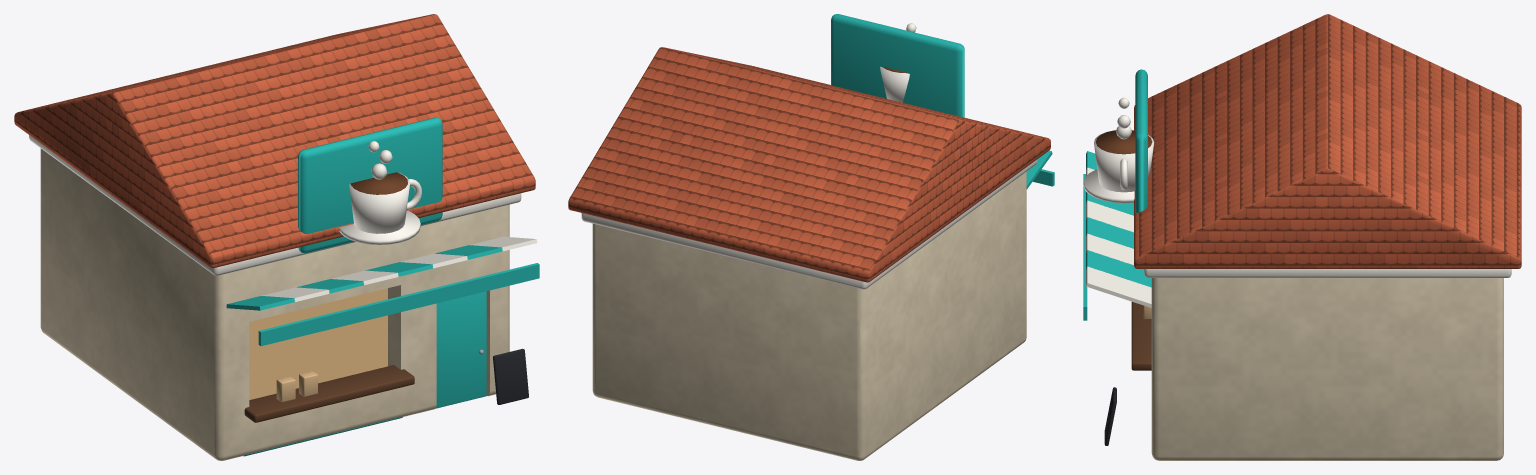
The model's file is restaurant_coffee.gltf.
The picture shows the model from 3 angles, left to right: view 1: azimuth 30°, elevation 25°; view 2: azimuth 150°, elevation 25°; view 3: azimuth 270°, elevation 25°; orthographic projection. The views are drawn at different scales.
Parts seen in each view (by area): view 1: restaurant_coffee_mesh, INT_door_restaurant_coffee, INT_counter_coffee; view 2: restaurant_coffee_mesh; view 3: restaurant_coffee_mesh, INT_counter_coffee.
Part boxes in pixels (<box>): restaurant_coffee_mesh: <box>14,14,539,460</box>; INT_door_restaurant_coffee: <box>435,291,486,408</box>; INT_counter_coffee: <box>244,365,414,422</box>; restaurant_coffee_mesh: <box>568,14,1054,460</box>; restaurant_coffee_mesh: <box>1083,14,1521,460</box>; INT_counter_coffee: <box>1131,302,1151,370</box>.
Size of what is drawn, in the model's own units: 7.3 by 6.64 by 8.71.
Materials: 14 (2 with a texture image).
